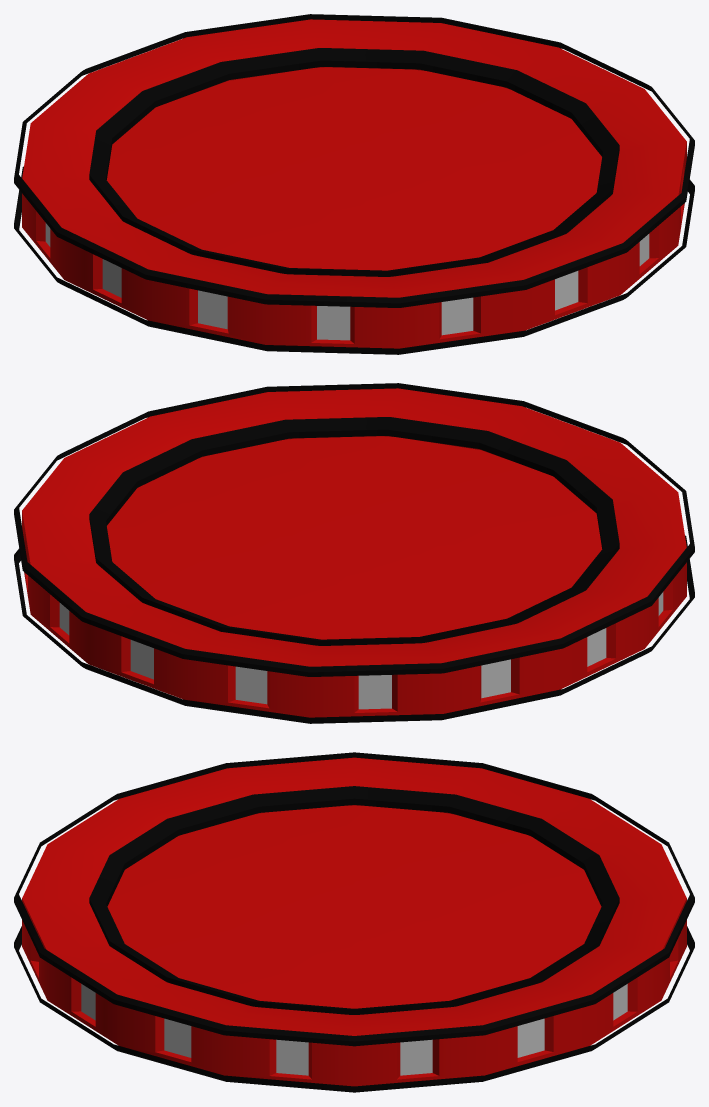
File: Fighting (1) 4.fbx
The picture shows the model from 3 angles, top to bottom: view 1: azimuth 30°, elevation 25°; view 2: azimuth 150°, elevation 25°; view 3: azimuth 270°, elevation 25°; orthographic projection.
Parts seen in each view (by area): view 1: Cylinder.004; view 2: Cylinder.004; view 3: Cylinder.004.
Part boxes in pixels (x1,y1,x2,y2): Cylinder.004: [14, 14, 694, 354]; Cylinder.004: [14, 383, 694, 723]; Cylinder.004: [14, 752, 694, 1092].
Size of the model in its own units: 76.85 by 7.47 by 76.85.
